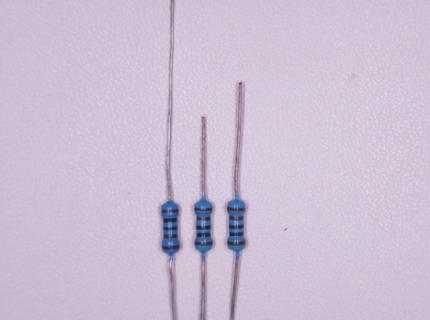Black band: (163, 218, 177, 223), (229, 225, 244, 229), (163, 226, 177, 230), (197, 226, 211, 230), (197, 233, 211, 237), (230, 232, 243, 236)
Brown band: (162, 245, 179, 250), (227, 207, 246, 211), (195, 207, 213, 211), (229, 216, 243, 221), (228, 241, 245, 245), (161, 210, 179, 213), (164, 234, 177, 238), (197, 217, 210, 221), (195, 242, 212, 245)
